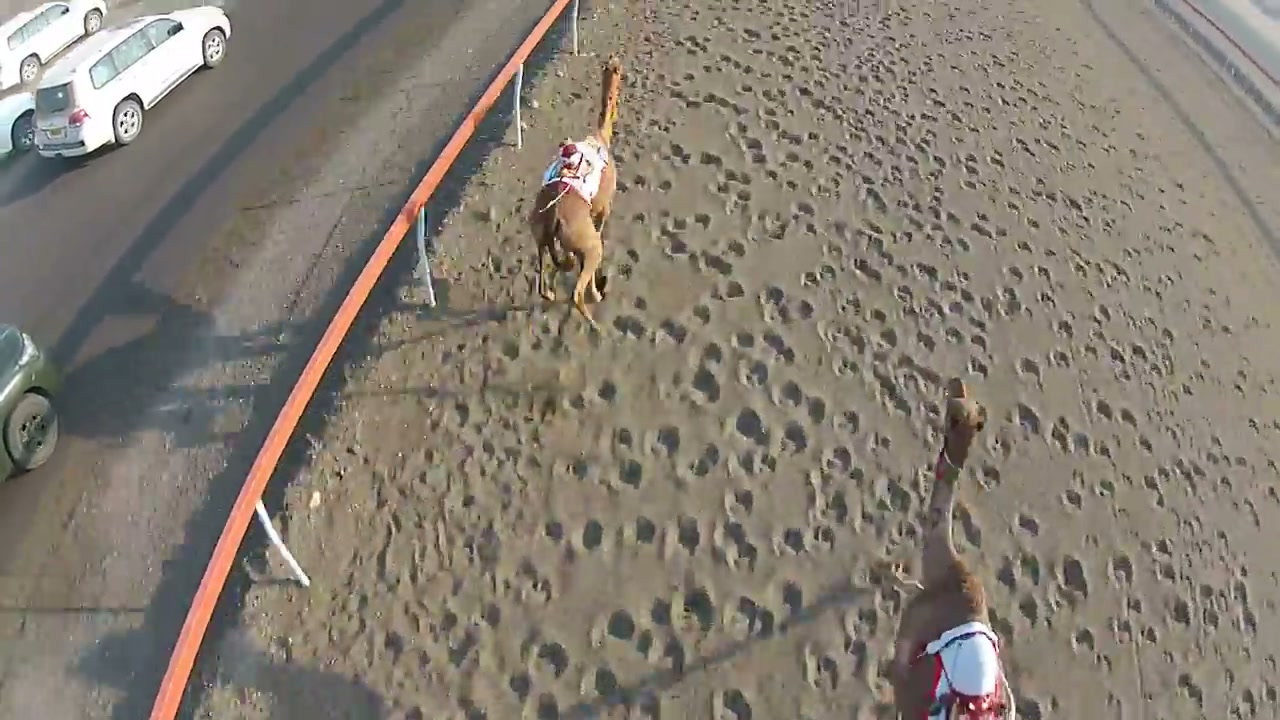animal_foot_print: (200, 0, 1279, 719)
